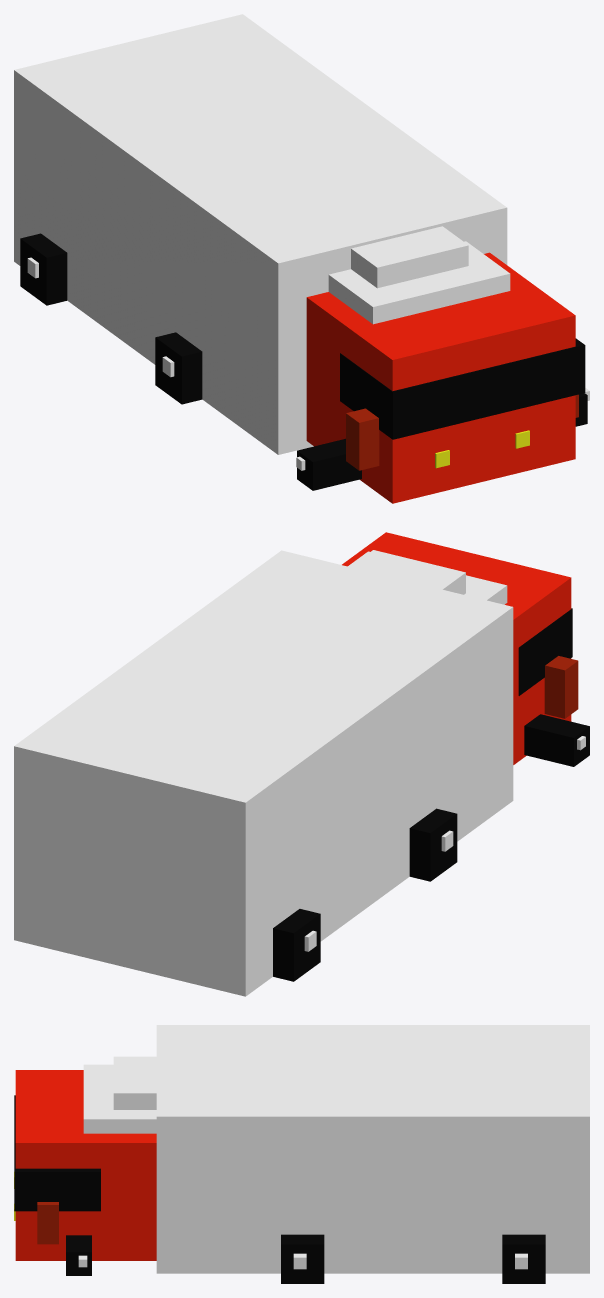
The model's file is truck (1).fbx.
The picture shows the model from 3 angles, top to bottom: view 1: azimuth 30°, elevation 25°; view 2: azimuth 150°, elevation 25°; view 3: azimuth 270°, elevation 25°; orthographic projection. The views are drawn at different scales.
Visible parts, largest first — view 1: body, front, window, top_big, top_small, mid_wheel, back_wheel, front_wheel, wing_mirror; view 2: body, front, mid_wheel, back_wheel, front_wheel, window, top_small, wing_mirror, top_big; view 3: body, front, window, top_big, top_small, mid_wheel, back_wheel, front_wheel, wing_mirror.
Boxes of the visible parts, x1=… form: body: x1=14, y1=14, x2=507, y2=454; front: x1=306, y1=252, x2=575, y2=503; window: x1=340, y1=338, x2=585, y2=439; top_big: x1=328, y1=241, x2=510, y2=324; top_small: x1=351, y1=226, x2=468, y2=288; mid_wheel: x1=155, y1=332, x2=202, y2=404; back_wheel: x1=20, y1=233, x2=67, y2=305; front_wheel: x1=297, y1=393, x2=587, y2=490; wing_mirror: x1=346, y1=394, x2=578, y2=470; body: x1=14, y1=550, x2=513, y2=996; front: x1=342, y1=532, x2=571, y2=764; mid_wheel: x1=409, y1=808, x2=457, y2=881; back_wheel: x1=273, y1=909, x2=320, y2=981; front_wheel: x1=524, y1=714, x2=589, y2=766; window: x1=518, y1=608, x2=572, y2=695; top_small: x1=350, y1=550, x2=465, y2=594; wing_mirror: x1=544, y1=656, x2=578, y2=718; top_big: x1=348, y1=551, x2=507, y2=604; body: x1=156, y1=1025, x2=589, y2=1273; front: x1=15, y1=1070, x2=156, y2=1260; window: x1=14, y1=1095, x2=100, y2=1211; top_big: x1=83, y1=1064, x2=156, y2=1133; top_small: x1=113, y1=1056, x2=156, y2=1109; mid_wheel: x1=281, y1=1234, x2=324, y2=1283; back_wheel: x1=502, y1=1234, x2=545, y2=1283; front_wheel: x1=66, y1=1235, x2=91, y2=1275; wing_mirror: x1=37, y1=1202, x2=58, y2=1244.
Bounding box in the file's own units: 378 × 240 × 797.
